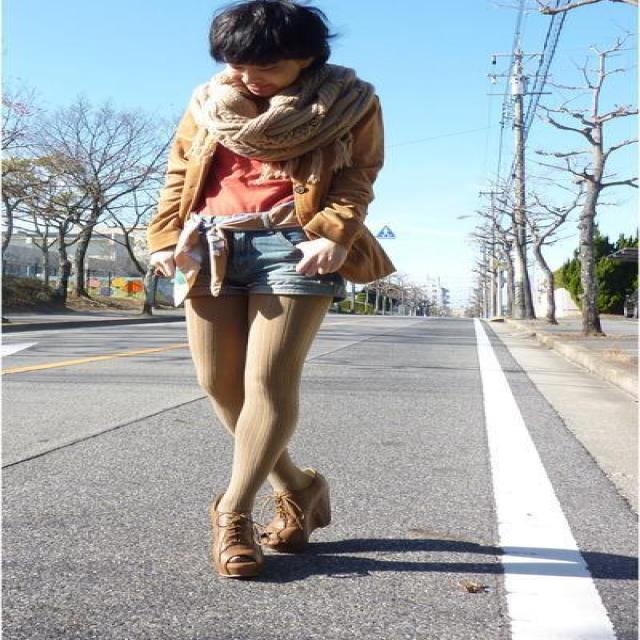jacket: (152, 98, 395, 283)
shirt: (190, 142, 317, 220)
shoe: (155, 203, 344, 564)
